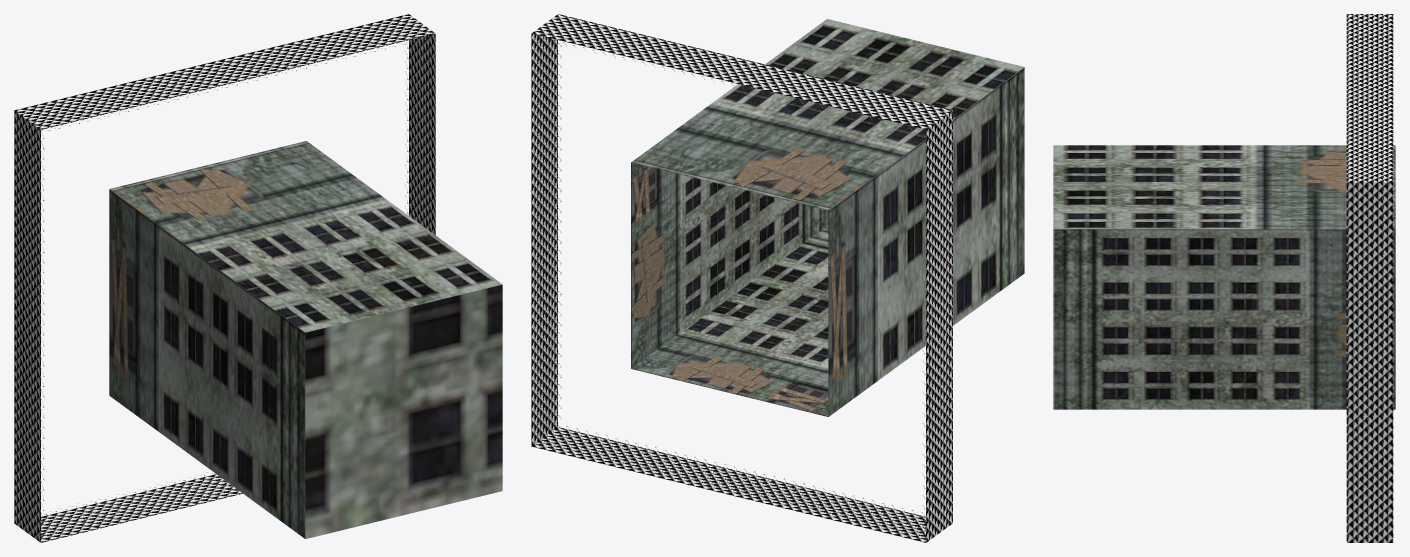
File: building14x24x14_wtf.obj
3 views of the same model, side by side, from view 1: azimuth 30°, elevation 25°; view 2: azimuth 150°, elevation 25°; view 3: azimuth 270°, elevation 25° (orthographic). The views are drawn at different scales.
Visible parts, largest first — view 1: group5, group4, group2; view 2: group5, group4, group2; view 3: group5, group4.
Part boxes in pixels (x1,y1,x2,y2): group5: (109, 141, 502, 538); group4: (14, 14, 435, 542); group2: (41, 35, 431, 535); group5: (631, 19, 1024, 416); group4: (531, 14, 952, 542); group2: (535, 37, 925, 537); group5: (1053, 145, 1395, 409); group4: (1346, 14, 1393, 542).
Size of the model in its own units: 660 by 660 by 568.
